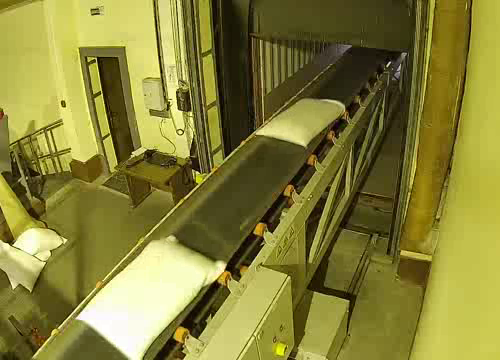bag: (76, 242, 231, 360), (254, 95, 349, 149)
